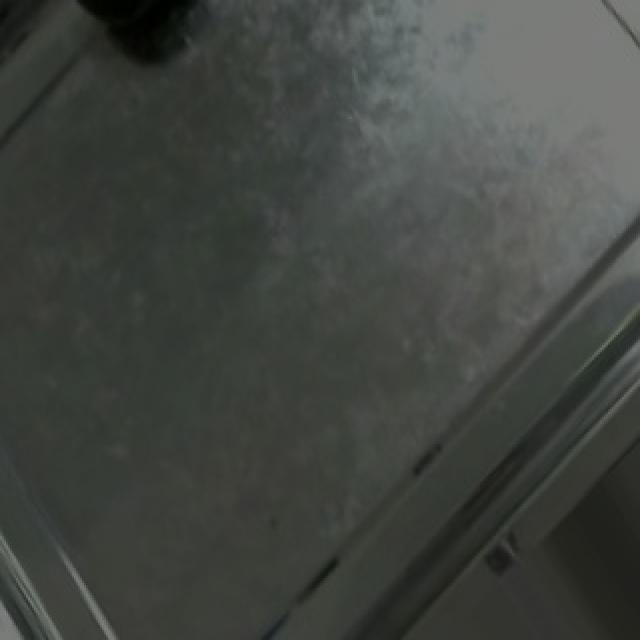Fruit: (58, 0, 220, 47)
